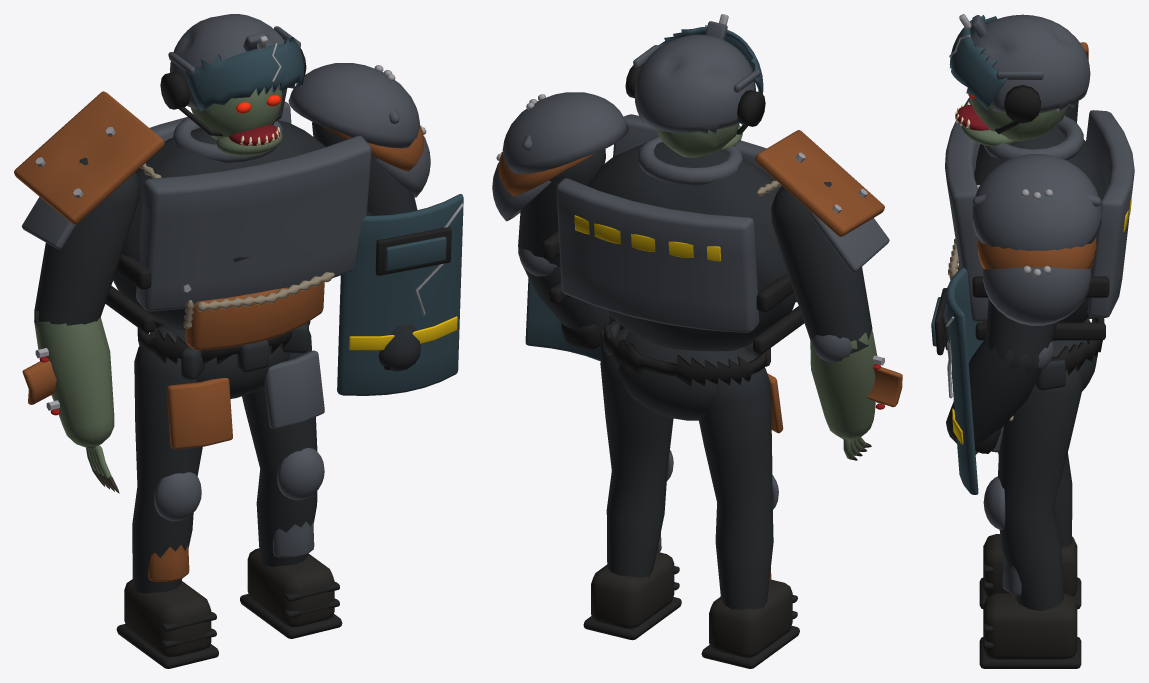
The model's file is zombi_blindado_hd.glb.
The picture shows the model from 3 angles, left to right: view 1: azimuth 30°, elevation 25°; view 2: azimuth 150°, elevation 25°; view 3: azimuth 270°, elevation 25°; orthographic projection. The views are drawn at different scales.
Visible parts, largest first — view 1: Torso, LeftArm, RightArm, RightLeg, LeftLeg, Head; view 2: Torso, RightArm, RightLeg, LeftArm, LeftLeg, Head; view 3: LeftArm, LeftLeg, Torso, Head, RightLeg.
Part boxes in pixels (<box>): Torso: <box>105,101,372,449</box>; LeftArm: <box>288,63,463,395</box>; RightArm: <box>14,91,164,493</box>; RightLeg: <box>116,326,218,668</box>; LeftLeg: <box>240,330,342,638</box>; Head: <box>160,14,306,156</box>; Torso: <box>542,114,804,433</box>; RightArm: <box>754,130,902,460</box>; RightLeg: <box>699,350,799,668</box>; LeftArm: <box>492,92,628,361</box>; LeftLeg: <box>583,327,681,640</box>; Head: <box>625,14,765,157</box>; LeftArm: <box>931,154,1101,494</box>; LeftLeg: <box>979,349,1083,668</box>; Torso: <box>945,97,1134,452</box>; Head: <box>949,14,1090,146</box>; RightLeg: <box>979,452,1081,609</box>.
Bounding box in the file's own units: 3.62 × 5.19 × 1.56.
1 material, 1 textured.
